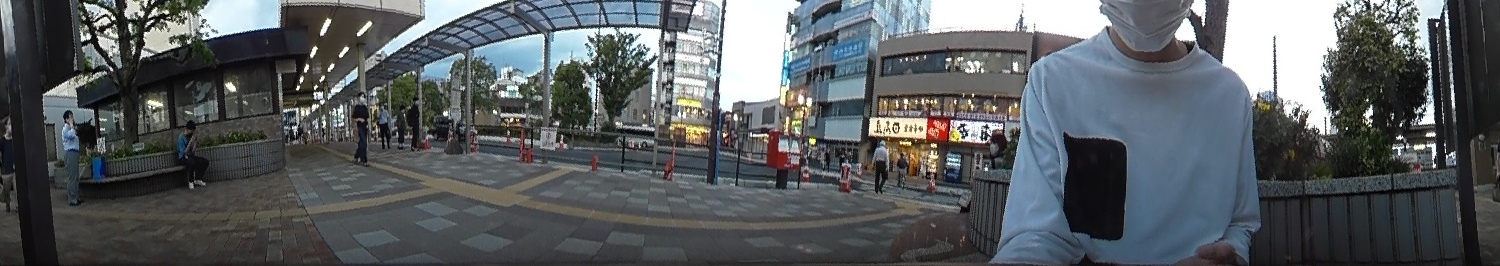difficult_person: (347, 88, 372, 166), (374, 99, 395, 150), (395, 100, 408, 146), (893, 149, 909, 186)
person: (957, 131, 1008, 210), (172, 117, 212, 189), (57, 109, 87, 205), (867, 131, 890, 190)
